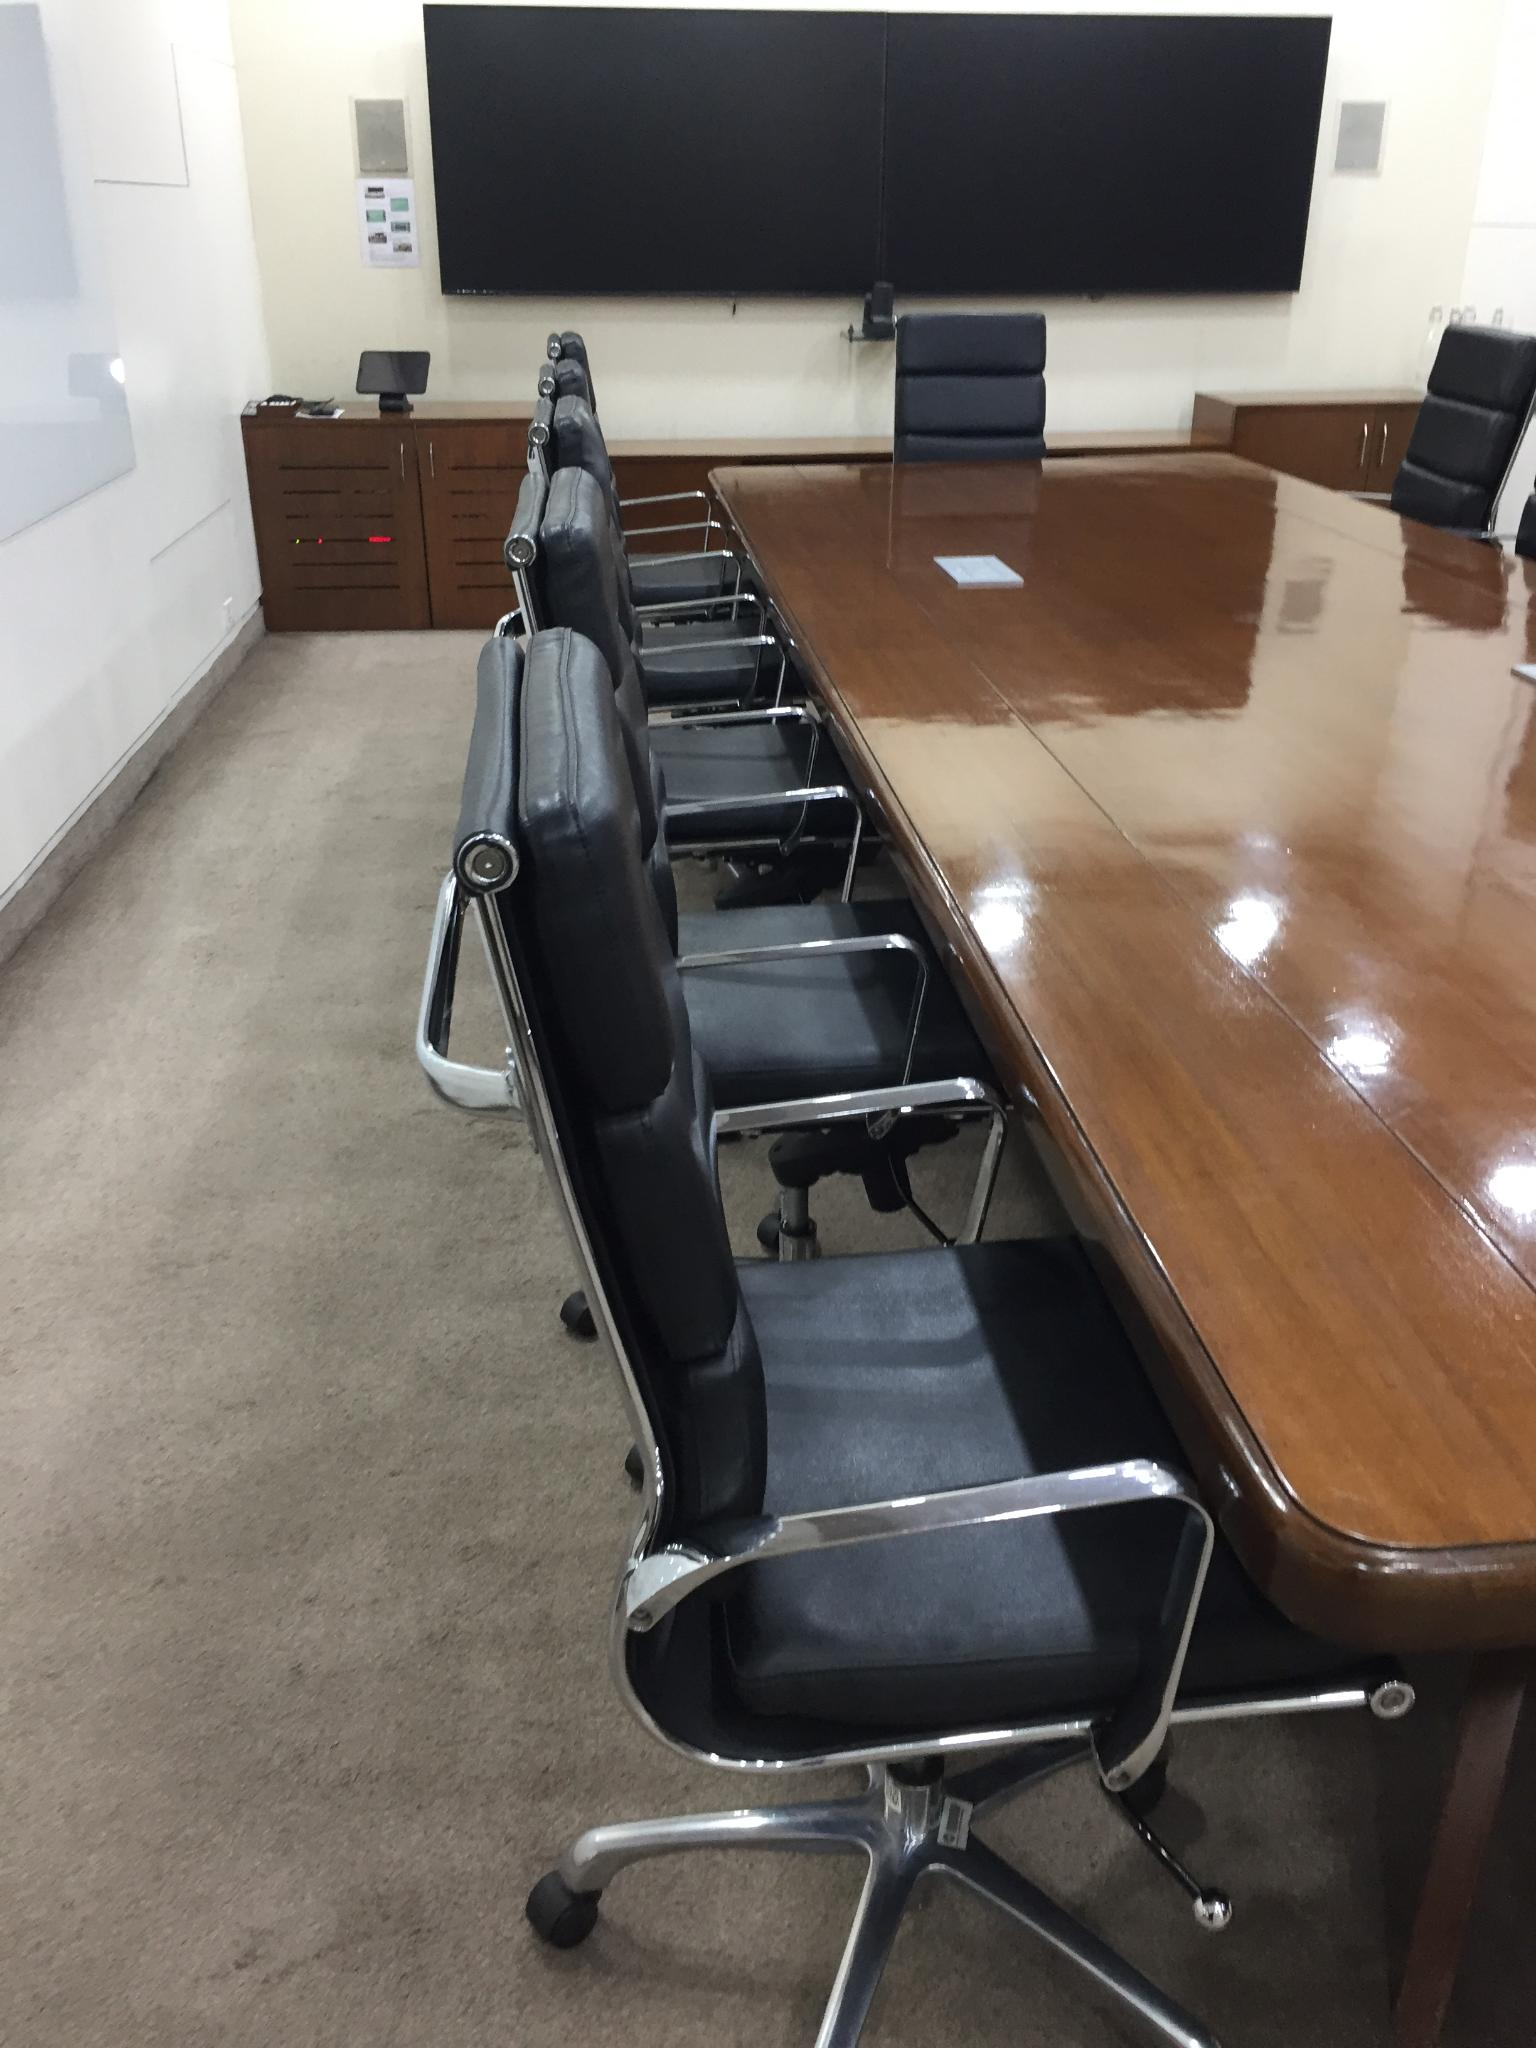chair: (440, 616, 1415, 2045), (439, 505, 1036, 1237), (503, 337, 808, 698), (1350, 323, 1536, 534), (892, 311, 1047, 463)
